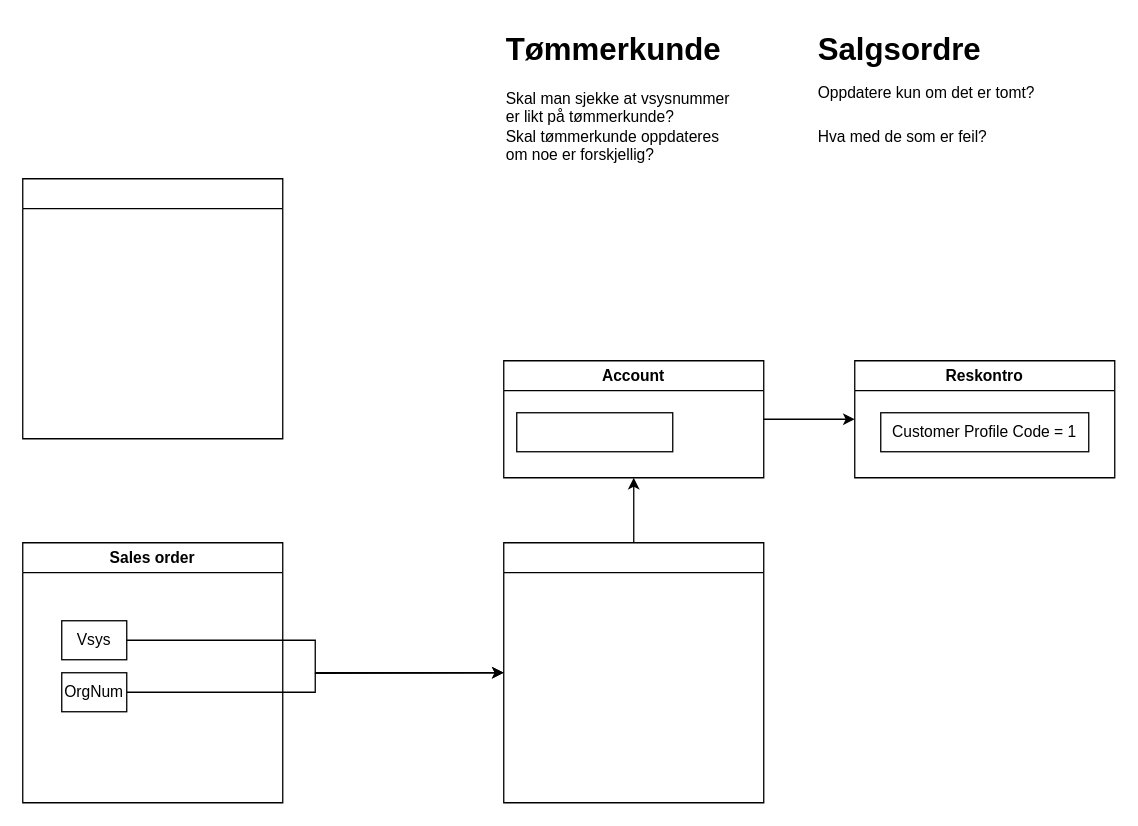
This 1138x826 diagram has some shape labels left out. Here are the shapes that lost their labels. From the top down, the centre of each, then its label:
At [152,308]: "Sales plan".
At [594,431]: "Tømmerkunde".
At [633,672]: "Property".
